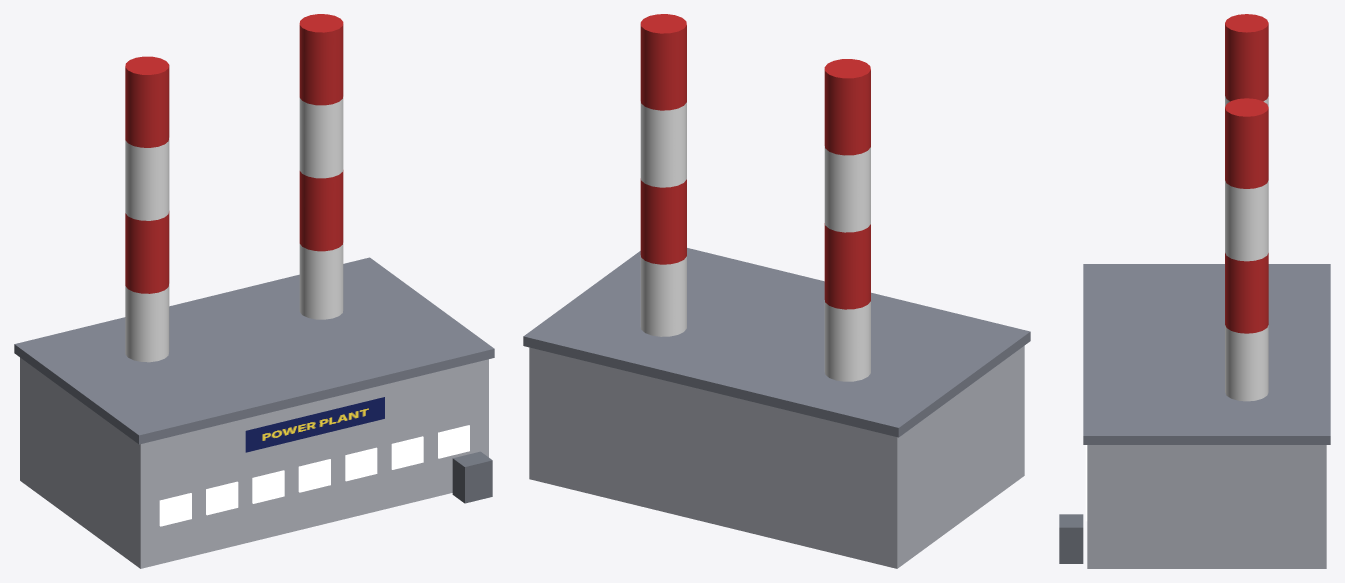
The model's file is power_plant.glb.
The picture shows the model from 3 angles, left to right: view 1: azimuth 30°, elevation 25°; view 2: azimuth 150°, elevation 25°; view 3: azimuth 270°, elevation 25°; orthographic projection. The views are drawn at different scales.
Visible parts, largest first — view 1: power_plant; view 2: power_plant; view 3: power_plant.
Boxes of the visible parts, x1,y1,x2,y2 form: power_plant: (14,14,494,568); power_plant: (523,14,1030,568); power_plant: (1059,14,1330,568).
Bounding box in the file's own units: 10.2 × 11.6 × 6.8.
7 materials, 1 textured.
